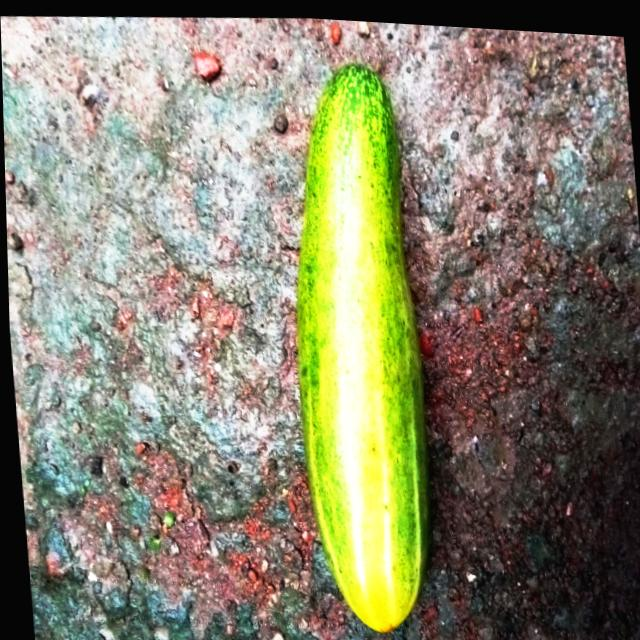Fresh-Cucumber: (269, 49, 442, 640)
